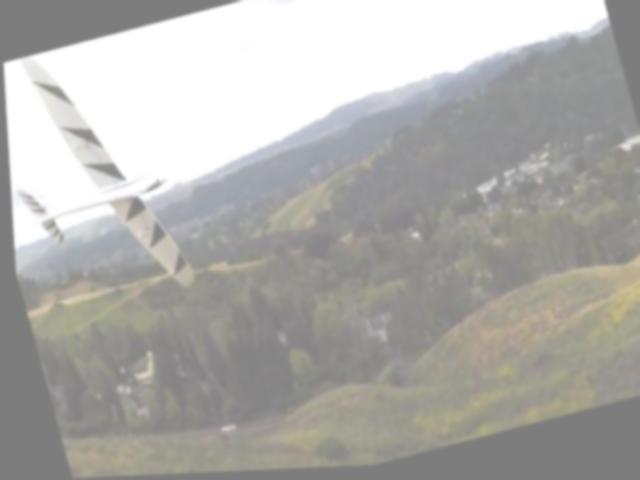iha: (2, 29, 197, 326)
